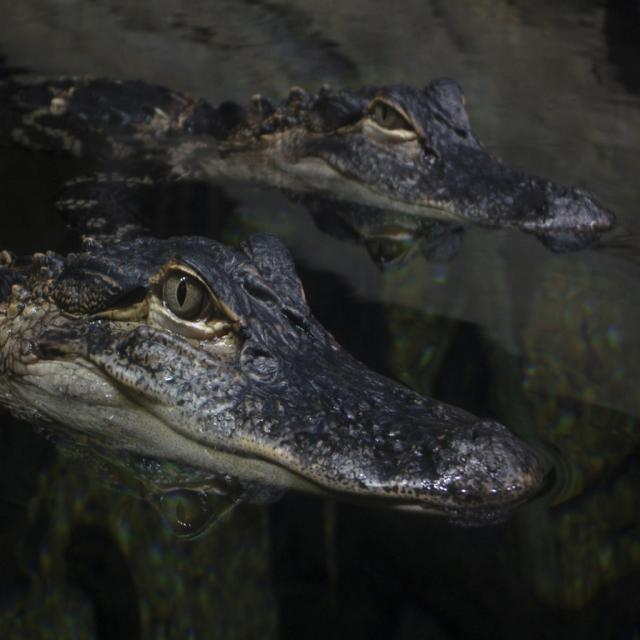crocodile: (12, 178, 564, 534)
